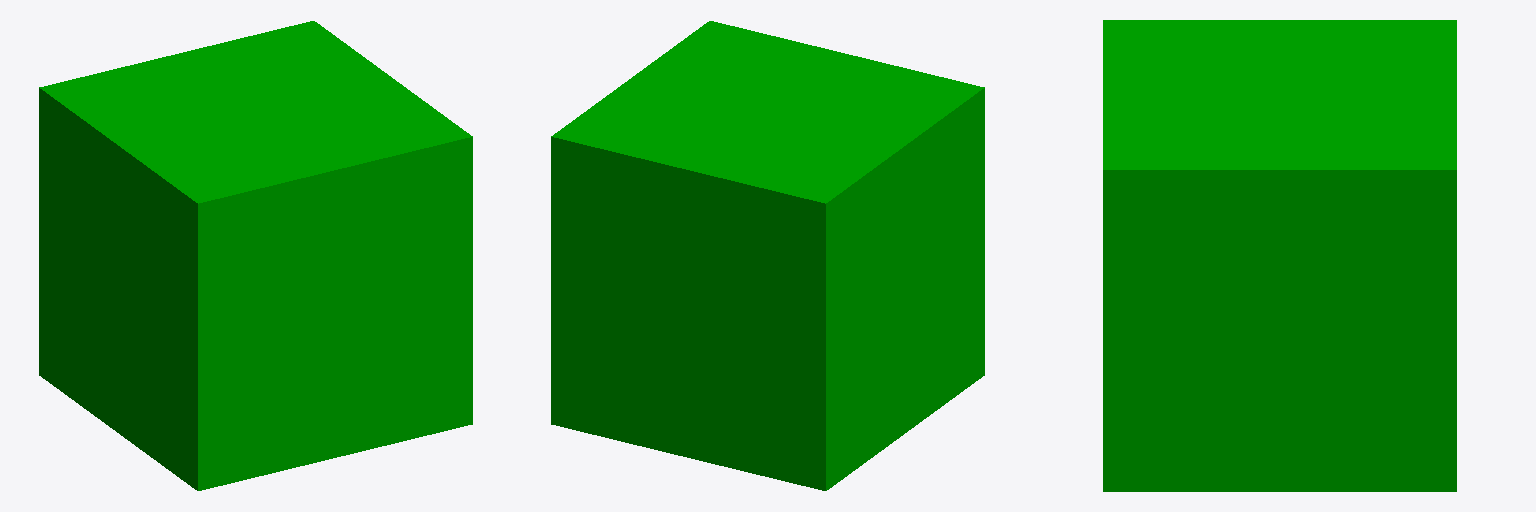
robot.urdf — cube:
<?xml version="1.0" ?>
<robot name="cube">
  <link name="cube-base">
    <visual>
      <origin rpy="0 0 0" xyz="0 0 0"/>
      <geometry>
        <box size="0.075 0.075 0.075"/>
      </geometry>
      <material name="test">
        <color rgba="0.0 0.7 0.0 1.0"/>
      </material>
    </visual>
    <collision>
      <origin rpy="0 0 0" xyz="0 0 0"/>
      <geometry>
        <box size="0.075 0.075 0.075"/>
      </geometry>
    </collision>
<!--     <inertial>
      <origin rpy="0 0 0" xyz="0.000000 0.000000 0.000000"/>
      <mass value="0.0"/>
      <inertia ixx="1.0" ixy="0.01" ixz="0.01" iyy="1.0" iyz="0.01" izz="1.0"/>
    </inertial> -->
  </link>
</robot>

--- What the picture shows (computed from the rendered views, not written in the file) ---
Views: 3 orthographic renders of the robot side by side, from view 1: azimuth 30°, elevation 25°; view 2: azimuth 150°, elevation 25°; view 3: azimuth 270°, elevation 25°.
Model cube with 1 links and 0 joints (none), rooted at cube-base, posed every joint at zero.
Links seen in each view (by area): view 1: cube-base; view 2: cube-base; view 3: cube-base.
Boxes of the visible links, box(x1,y1,x2,y2) form: cube-base: box(39, 21, 472, 490); cube-base: box(551, 21, 984, 490); cube-base: box(1103, 20, 1456, 491).
Bounding box of the posed robot: 0.075 × 0.075 × 0.075 m (x, y, z).
Geometry: primitives only (box / cylinder / sphere), no mesh files.